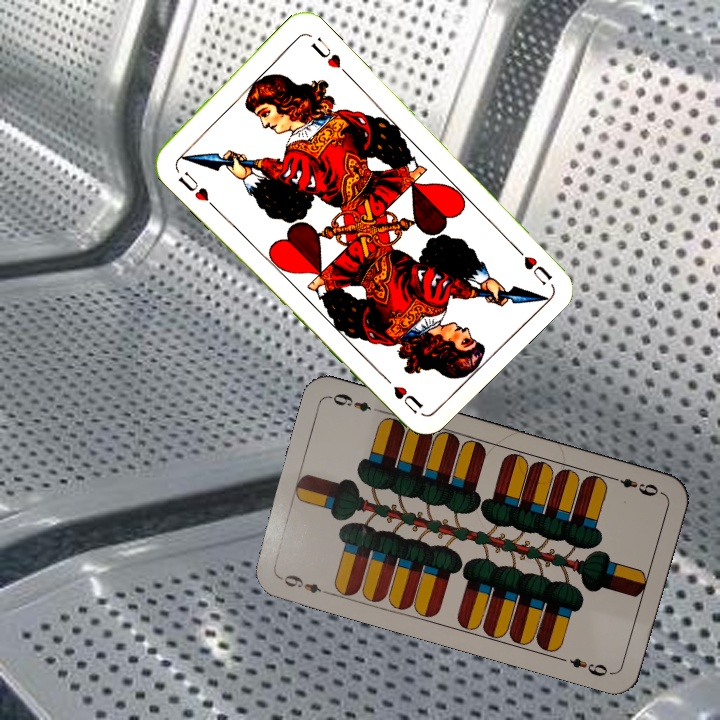E9: (276, 570, 333, 598), (606, 472, 661, 499)
HU: (508, 239, 555, 288), (174, 167, 211, 204)
